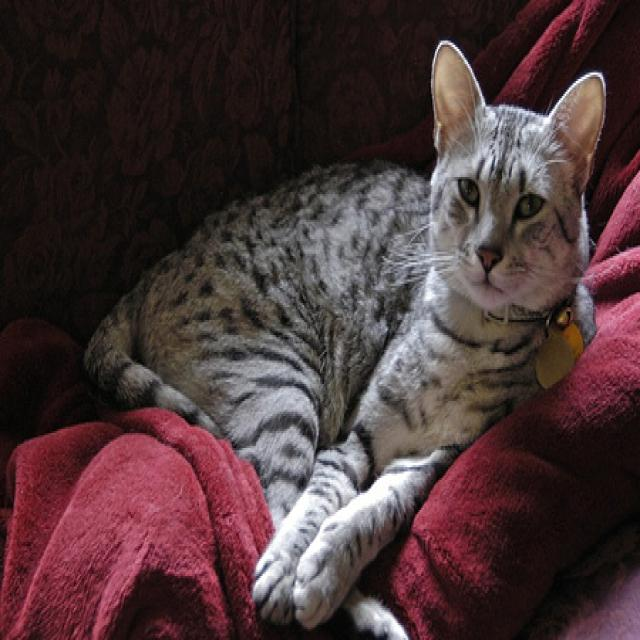Egyptian Mau: (84, 38, 609, 640)
